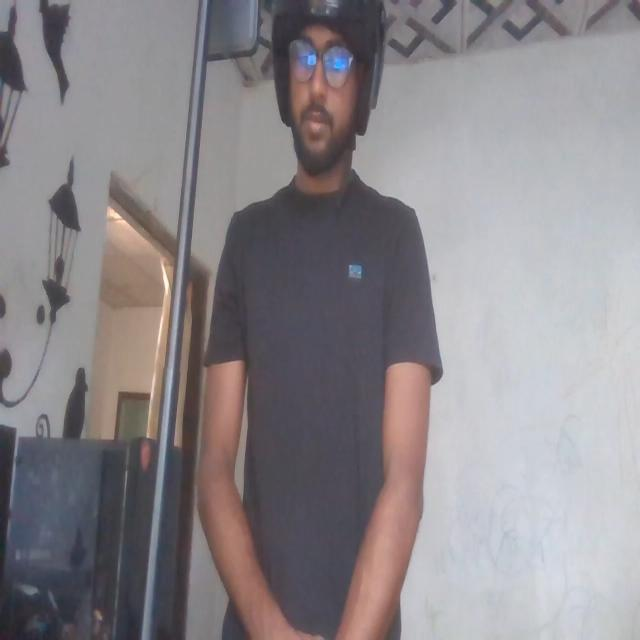Helmet_Wearer: (267, 0, 386, 196)
Person: (192, 0, 440, 640)
